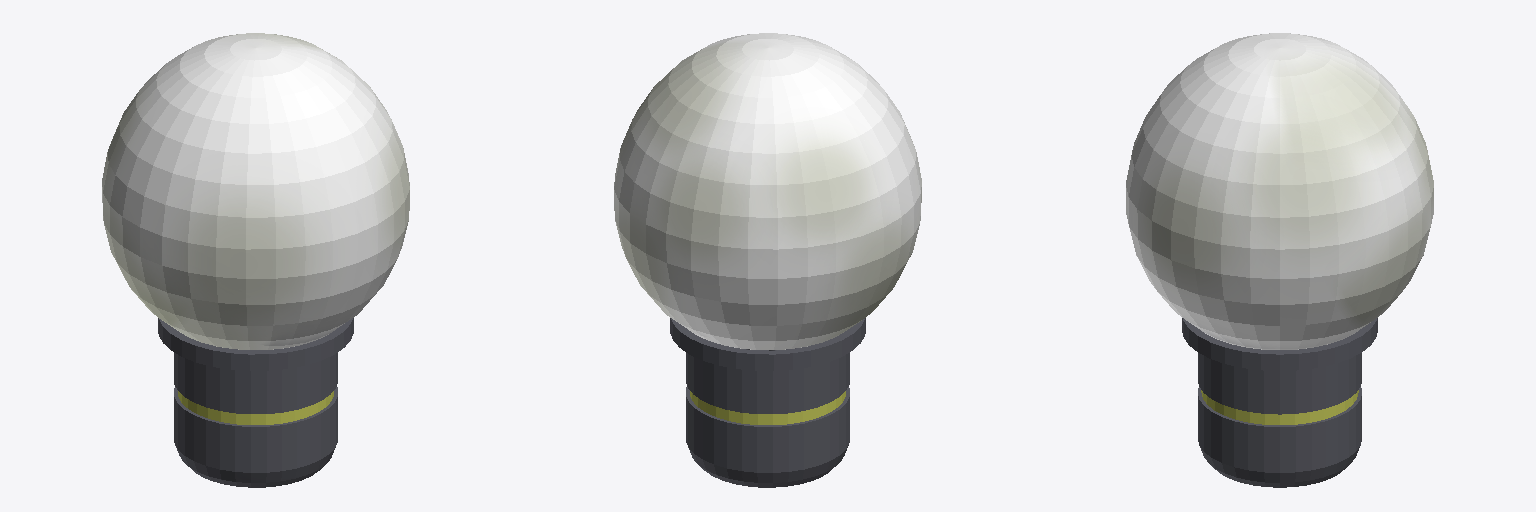
The picture shows the model from 3 angles: view 1: azimuth 30°, elevation 25°; view 2: azimuth 150°, elevation 25°; view 3: azimuth 270°, elevation 25°; orthographic projection.
Visible parts, largest first — view 1: Lampadina; view 2: Lampadina; view 3: Lampadina.
Part boxes in pixels (x1,y1,x2,y2): Lampadina: (102, 33, 409, 487); Lampadina: (614, 33, 921, 487); Lampadina: (1126, 33, 1433, 487).
Size of the model in its own units: 1.9 by 2.83 by 1.9.
Materials: 1 (1 with a texture image).